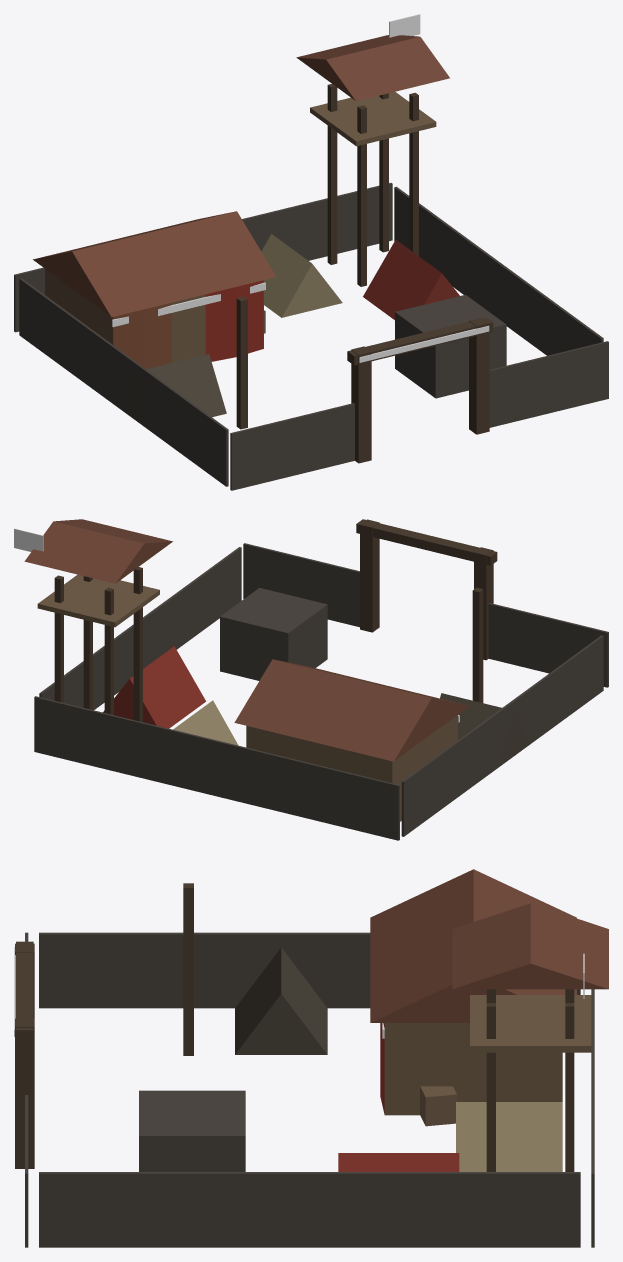
The picture shows the model from 3 angles, top to bottom: view 1: azimuth 30°, elevation 25°; view 2: azimuth 150°, elevation 25°; view 3: azimuth 270°, elevation 25°; orthographic projection. The views are drawn at different scales.
Parts seen in each view (by area): view 1: raider_building_camp; view 2: raider_building_camp; view 3: raider_building_camp.
Boxes of the visible parts, x1=… form: raider_building_camp: x1=14, y1=14, x2=608, y2=490; raider_building_camp: x1=14, y1=519, x2=608, y2=840; raider_building_camp: x1=14, y1=869, x2=608, y2=1247.
Bounding box in the file's own units: 17.05 × 9 × 16.7.
